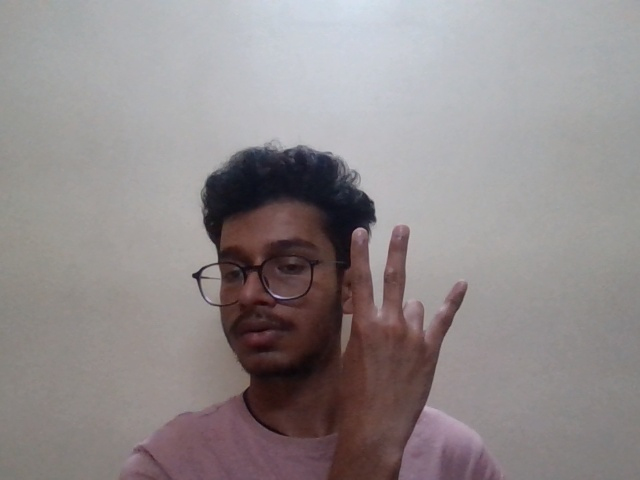why: (337, 212, 476, 415)
